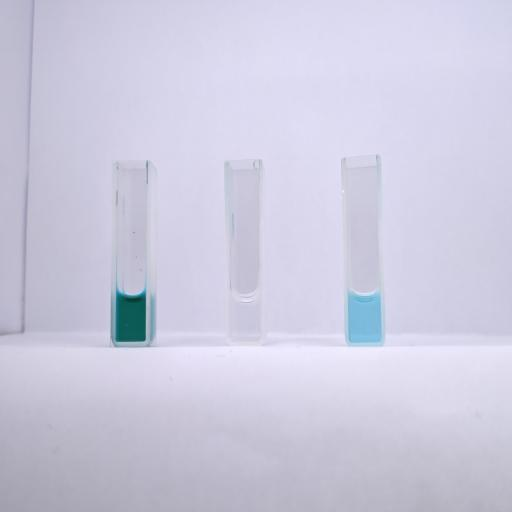cuvette: (340, 154, 386, 348), (108, 158, 152, 348), (223, 158, 267, 347)
liquid: (348, 293, 382, 342), (230, 292, 260, 342), (116, 292, 146, 341)
